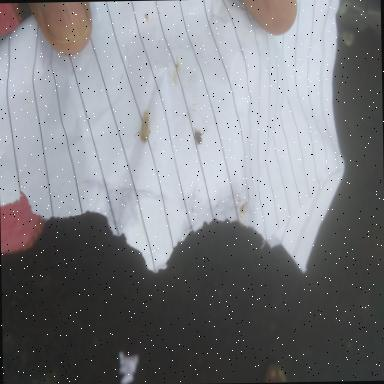pbw: (134, 110, 152, 144)
